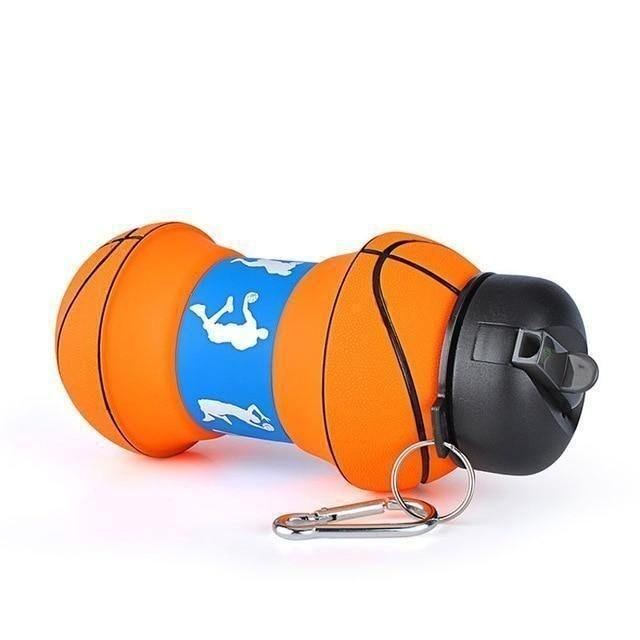gym bottle: (51, 221, 605, 495)
